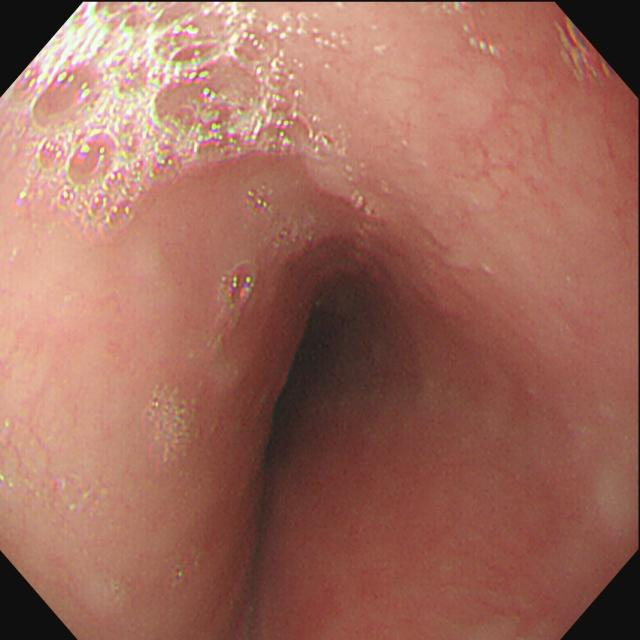E: (266, 290, 378, 451)
T: (6, 2, 343, 226), (144, 381, 202, 468), (552, 17, 616, 90), (219, 260, 259, 315)
